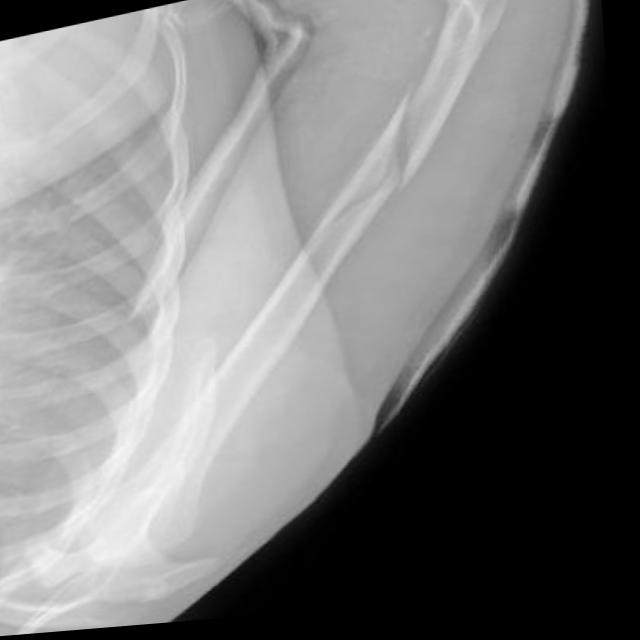fracture: (362, 96, 441, 205)
